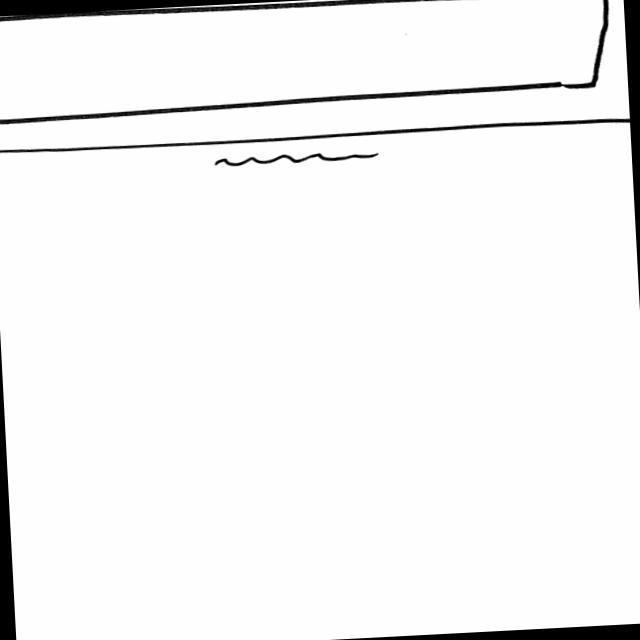container: (1, 1, 615, 128)
text: (214, 147, 384, 169)
